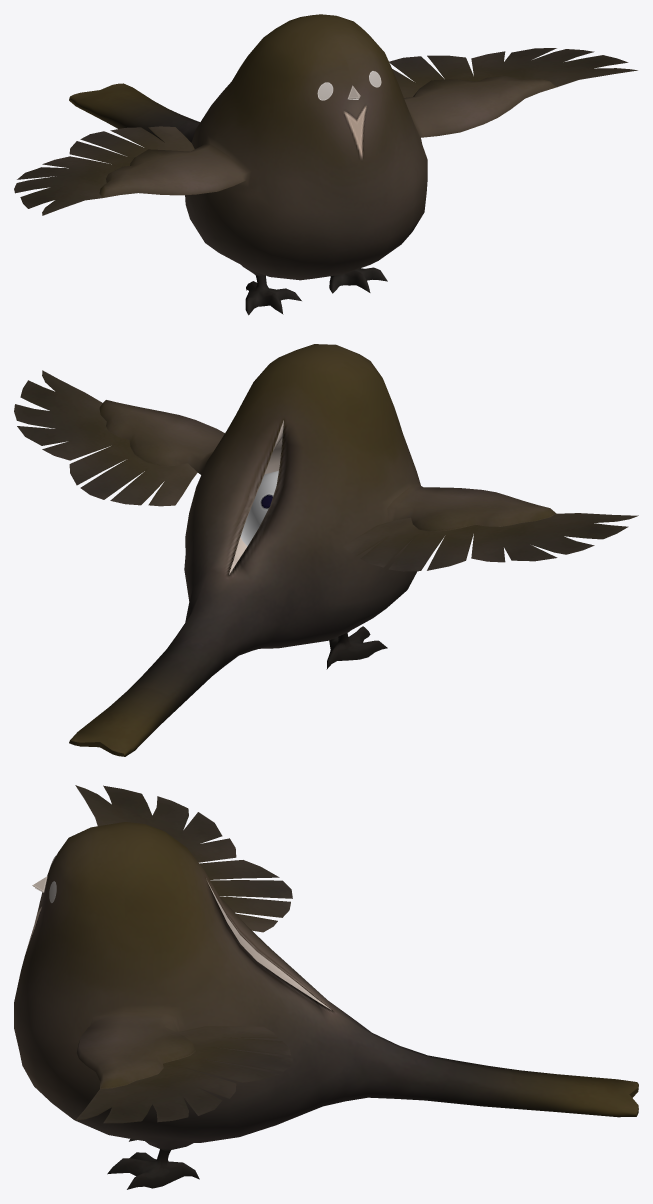
3 views of the same model, one above another, from view 1: azimuth 30°, elevation 25°; view 2: azimuth 150°, elevation 25°; view 3: azimuth 270°, elevation 25° (orthographic). The views are drawn at different scales.
Visible parts, largest first — view 1: 鸟_mesh; view 2: 鸟_mesh; view 3: 鸟_mesh.
Part boxes in pixels (left/top/right/bottom): 鸟_mesh: left=14, top=14, right=637, bottom=315; 鸟_mesh: left=14, top=344, right=638, bottom=756; 鸟_mesh: left=14, top=785, right=638, bottom=1189.
Size of the model in its own units: 0.2475 by 0.1117 by 0.1936.
1 material, 1 textured.
